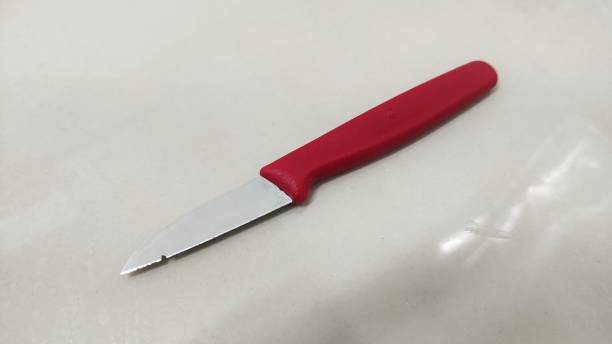knife: (118, 58, 500, 277)
